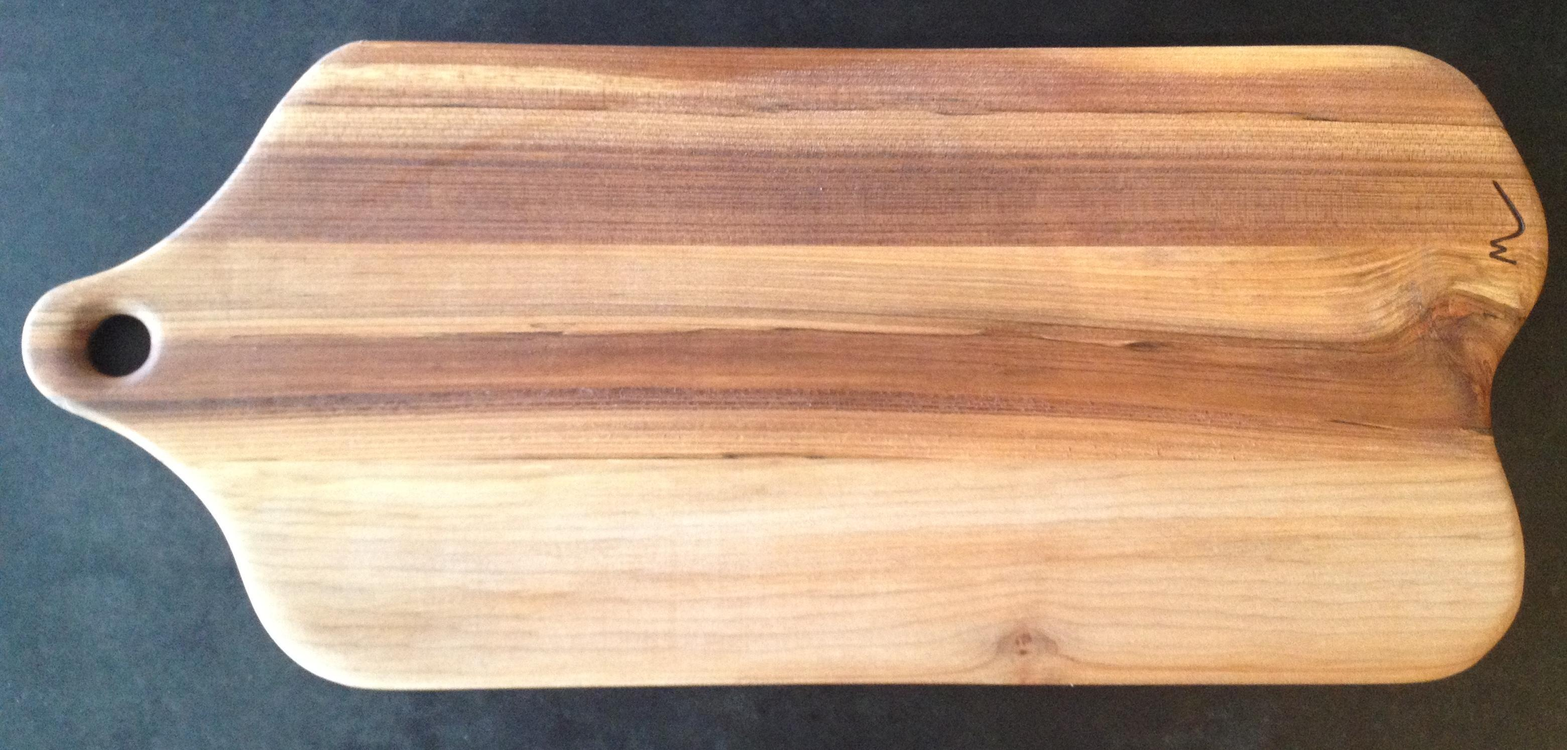gloved_hand: (17, 44, 1549, 728)
